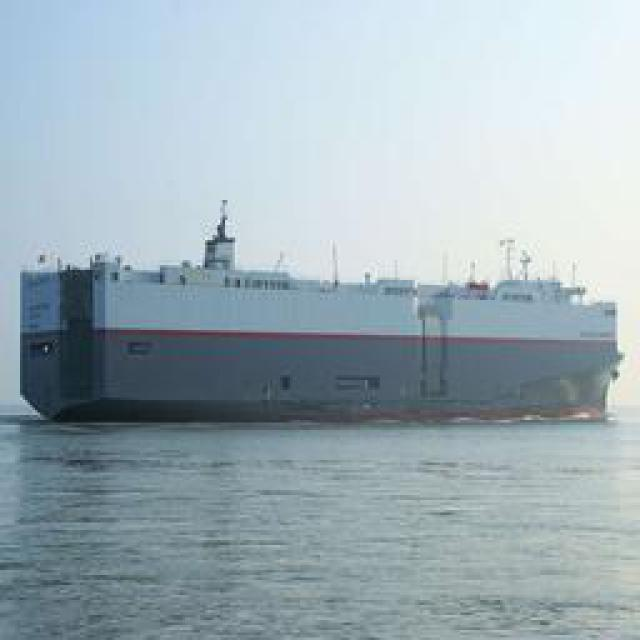Ship: (20, 200, 625, 428)
